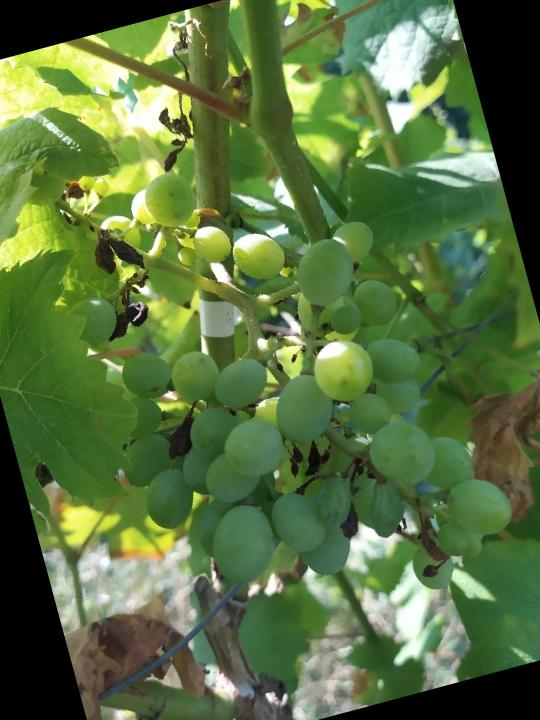grape: (36, 108, 528, 666)
